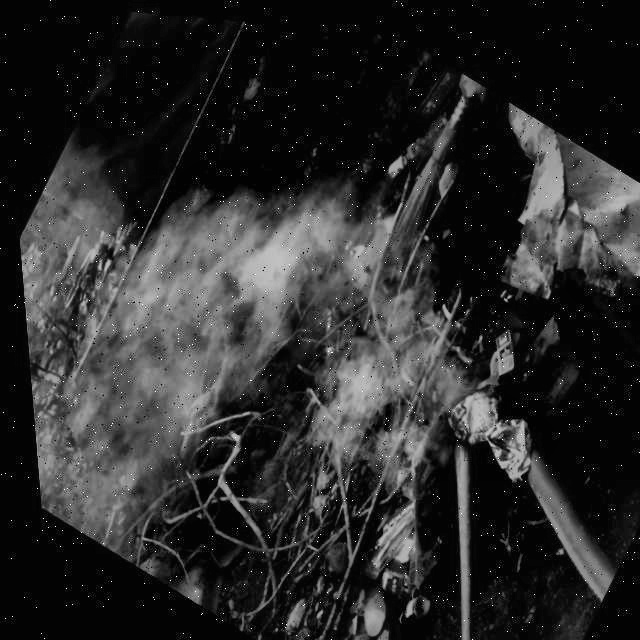Smoke: (1, 23, 620, 640)
